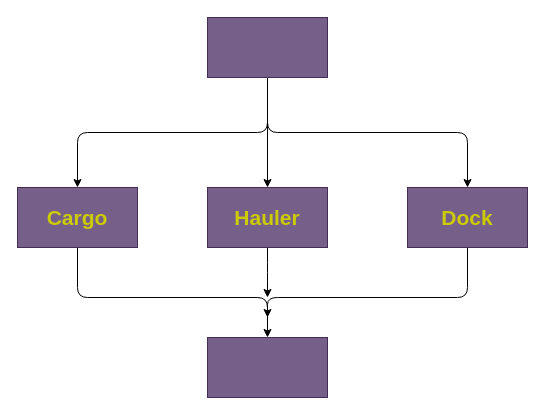
The diagram is 545 pixels wide and 415 high, and some of its shapes have lost their labels. The shapes that lost their labels are listed below. From the top down, each one's box as (x1, y1, x2, y2) in pixels, then its label:
(206, 16, 328, 78): Main
(206, 336, 328, 398): Database
